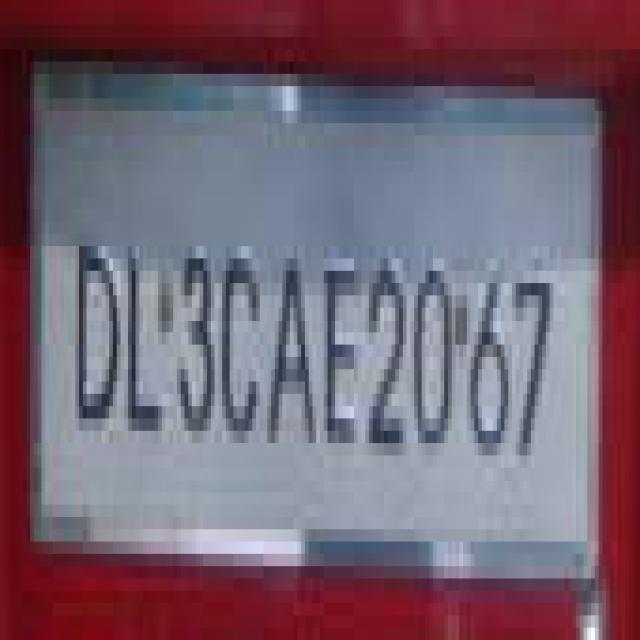plate: (23, 62, 587, 566)
